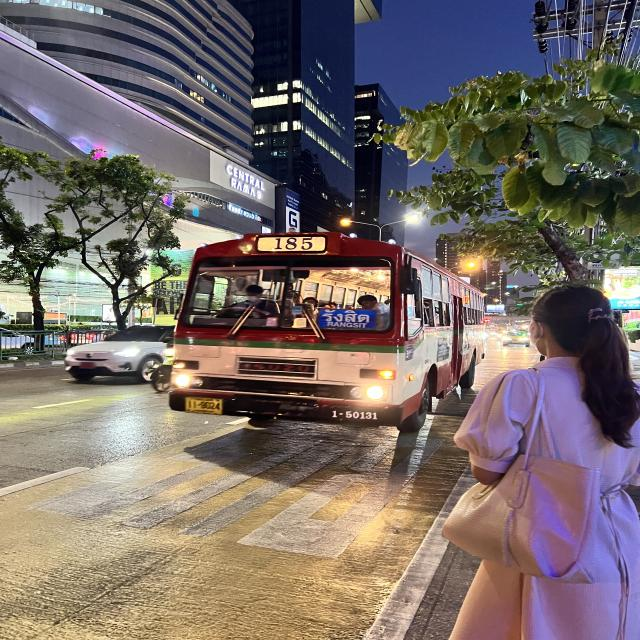BMTA-bus: (166, 233, 481, 428)
Bus-Line-Number: (268, 235, 317, 252)
Destination-Sign-Normal: (317, 308, 377, 332)
